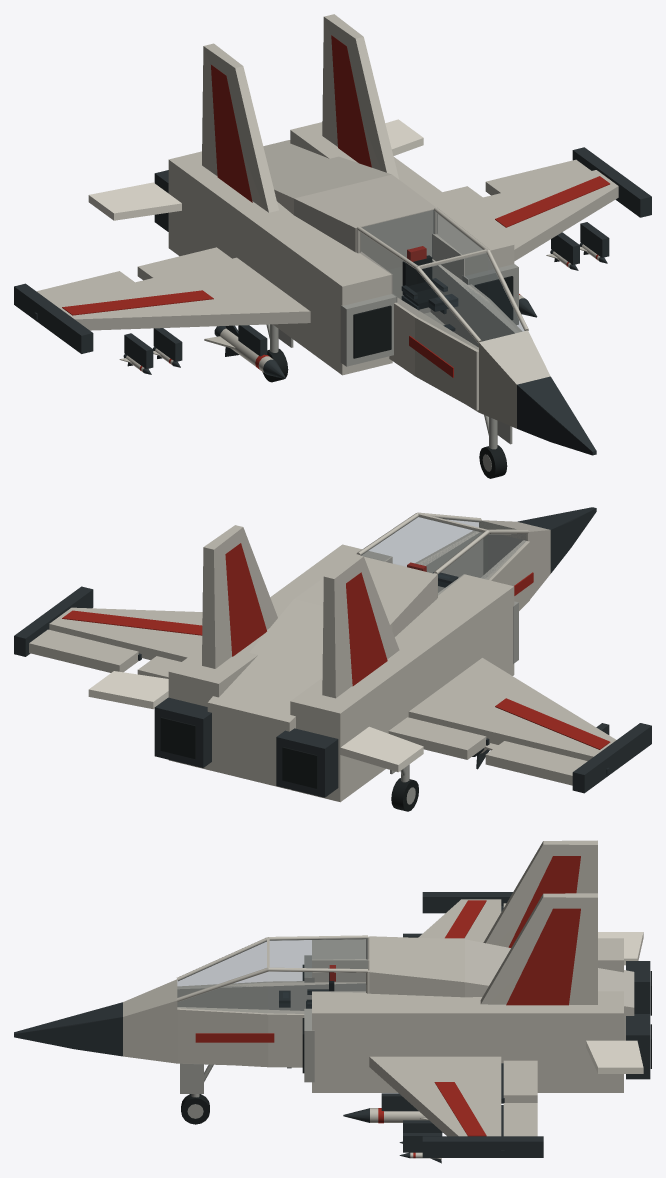
3 views of the same model, one above another, from view 1: azimuth 30°, elevation 25°; view 2: azimuth 150°, elevation 25°; view 3: azimuth 270°, elevation 25° (orthographic). The views are drawn at different scales.
Visible parts, largest first — view 1: jet-b-painted, jet-b-glazing, elevator-left-fleet-armor, breakaway-0-painted, crew-chair-pilot-painted, breakaway-1-painted, aileron-right-painted, flap-left-painted, aileron-left-painted, store-left-large-painted, elevator-right-fleet-armor, gear-wheel-nose-0-0-painted; view 2: jet-b-painted, jet-b-glazing, aileron-right-painted, aileron-left-painted, flap-left-painted, elevator-left-fleet-armor, breakaway-0-painted, elevator-right-fleet-armor, breakaway-1-painted, gear-wheel-left-0-0-painted, flap-right-painted; view 3: jet-b-painted, jet-b-glazing, breakaway-1-painted, elevator-right-fleet-armor, flap-right-painted, aileron-right-painted, breakaway-0-painted, store-right-large-painted, landing-gear-nose-painted, gear-wheel-nose-0-0-painted, elevator-left-fleet-armor, crew-chair-pilot-painted.
Part boxes in pixels (x1,y1,x2,y2): jet-b-painted: (52,14,618,455); jet-b-glazing: (360,210,524,349); elevator-left-fleet-armor: (88,182,181,220); breakaway-0-painted: (14,283,93,353); crew-chair-pilot-painted: (401,246,458,331); breakaway-1-painted: (572,147,651,217); aileron-right-painted: (485,159,591,195); flap-left-painted: (137,247,231,280); aileron-left-painted: (34,271,134,319); store-left-large-painted: (204,325,285,378); elevator-right-fleet-armor: (385,119,423,155); gear-wheel-nose-0-0-painted: (479,445,507,478); jet-b-painted: (49,507,616,802); jet-b-glazing: (361,516,526,594); aileron-right-painted: (29,629,141,672); aileron-left-painted: (485,741,609,785); flap-left-painted: (388,717,489,759); elevator-left-fleet-armor: (340,726,423,772); breakaway-0-painted: (572,723,651,793); elevator-right-fleet-armor: (88,671,168,709); breakaway-1-painted: (14,586,93,656); gear-wheel-left-0-0-painted: (391,778,418,811); flap-right-painted: (137,656,181,678); jet-b-painted: (14,840,651,1152); jet-b-glazing: (177,938,367,1013); breakaway-1-painted: (422,1136,543,1157); elevator-right-fleet-armor: (586,1040,643,1073); flap-right-painted: (501,1060,537,1103); aileron-right-painted: (501,1103,537,1155); breakaway-0-painted: (422,892,512,913); store-right-large-painted: (343,1108,442,1132); landing-gear-nose-painted: (180,1063,213,1097); gear-wheel-nose-0-0-painted: (181,1094,209,1124); elevator-left-fleet-armor: (598,932,643,965); crew-chair-pilot-painted: (279,965,335,1008).
Bounding box in the file's own units: 64.6 × 30.39 × 69.47.
